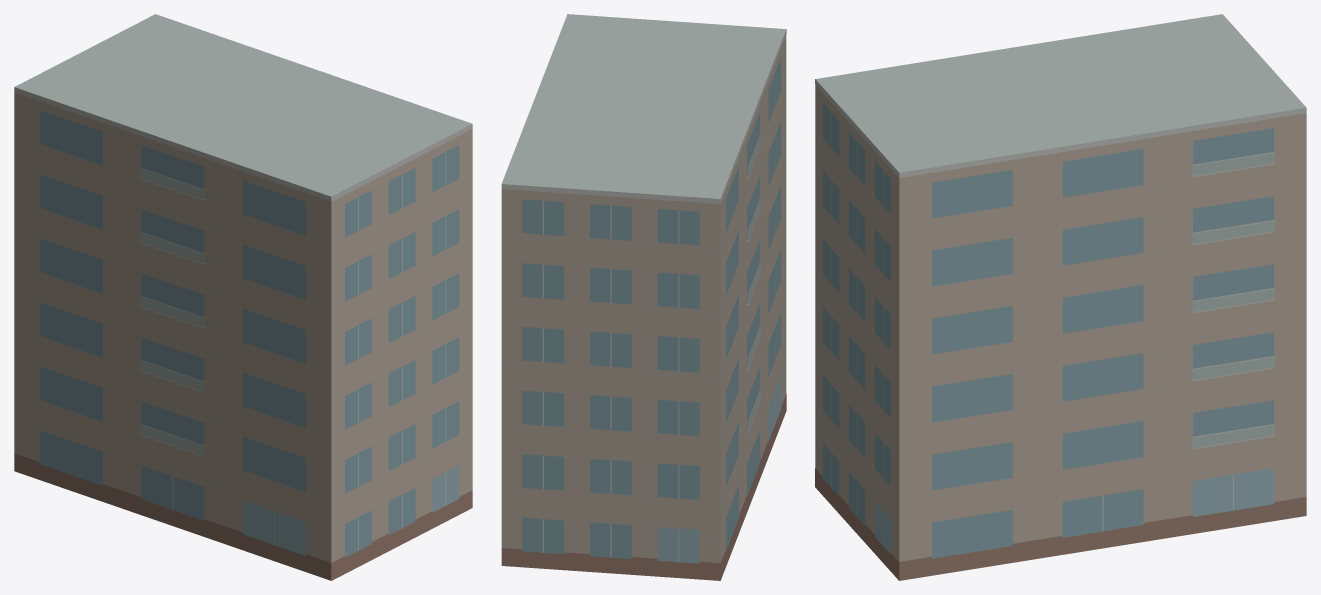
File: survey-upis-32538640.glb
The picture shows the model from 3 angles, left to right: view 1: azimuth 30°, elevation 25°; view 2: azimuth 150°, elevation 25°; view 3: azimuth 270°, elevation 25°; orthographic projection. The views are drawn at different scales.
Visible parts, largest first — view 1: survey-upis-32538640.tmp; view 2: survey-upis-32538640.tmp; view 3: survey-upis-32538640.tmp.
Boxes of the visible parts, x1,y1,x2,y2 form: survey-upis-32538640.tmp: (14, 14, 472, 580); survey-upis-32538640.tmp: (501, 14, 786, 580); survey-upis-32538640.tmp: (815, 14, 1306, 580).
Bounding box in the file's own units: 15.44 × 18.5 × 20.2.
